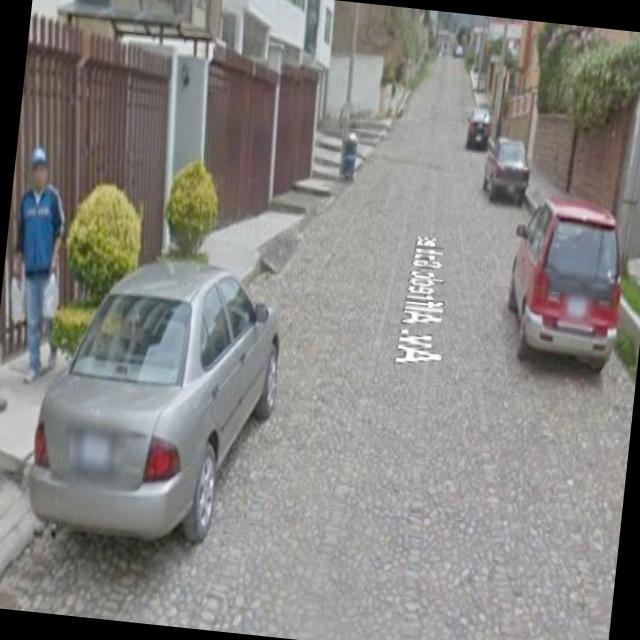car: (19, 240, 290, 546), (500, 194, 633, 366), (478, 136, 534, 200)
